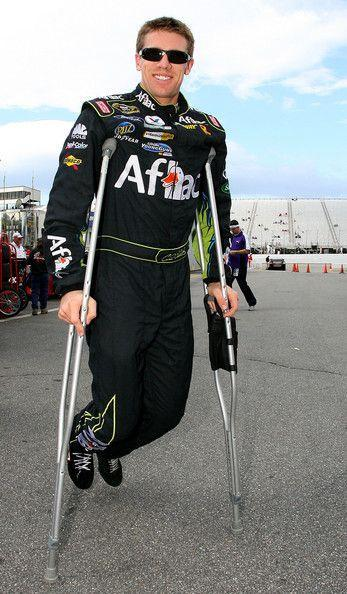crutches: (37, 8, 257, 584)
